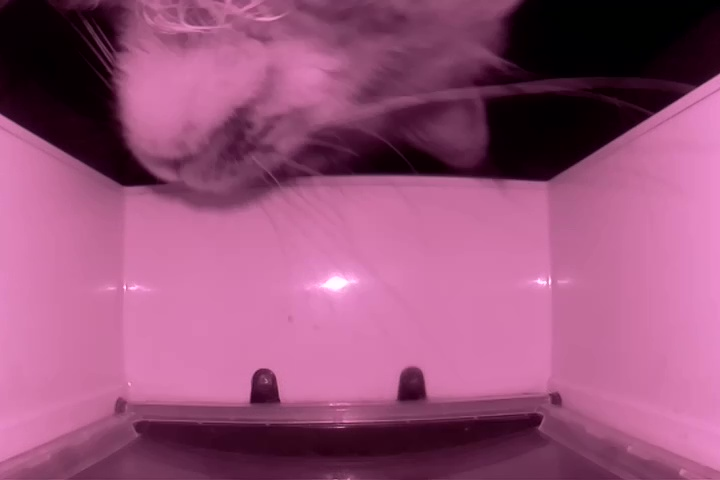Snout: (111, 52, 289, 202)
